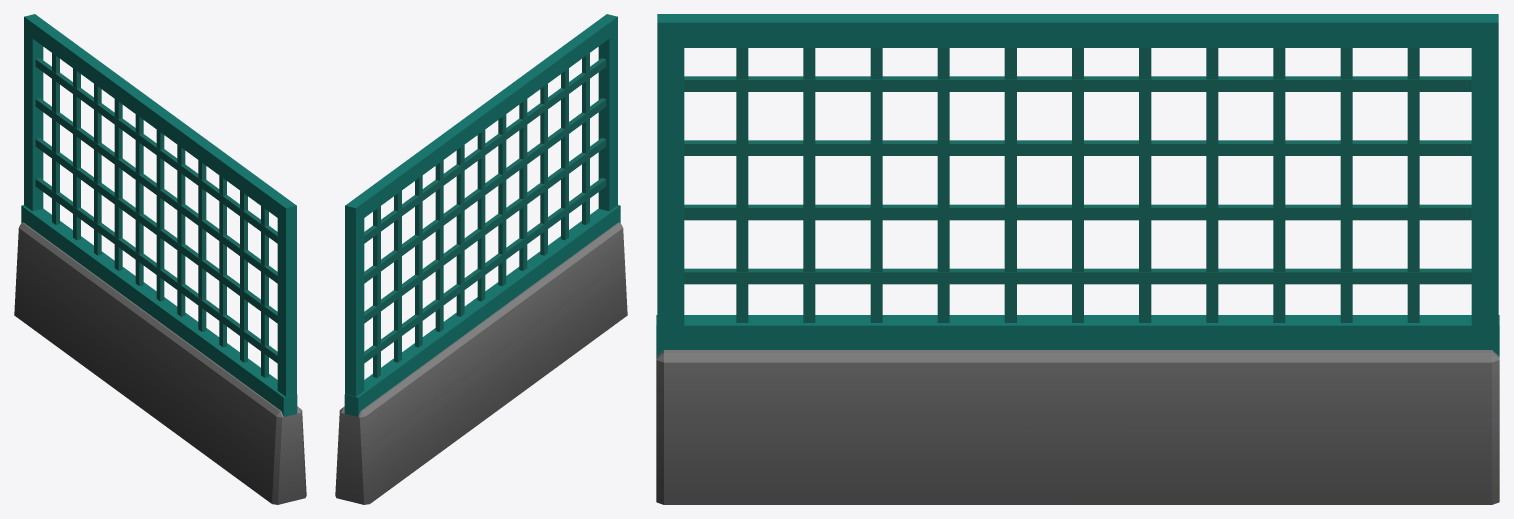
Rendered from Fence_1_E_4.glb.
The picture shows the model from 3 angles, left to right: view 1: azimuth 30°, elevation 25°; view 2: azimuth 150°, elevation 25°; view 3: azimuth 270°, elevation 25°; orthographic projection. The views are drawn at different scales.
Visible parts, largest first — view 1: Fence_1_E_4; view 2: Fence_1_E_4; view 3: Fence_1_E_4.
Part boxes in pixels (x1,y1,x2,y2): Fence_1_E_4: (14,14,306,504); Fence_1_E_4: (335,14,627,504); Fence_1_E_4: (656,14,1499,504).
Size of the model in its own units: 0.3052 by 2.48 by 4.
Materials: 2 (2 with a texture image).
